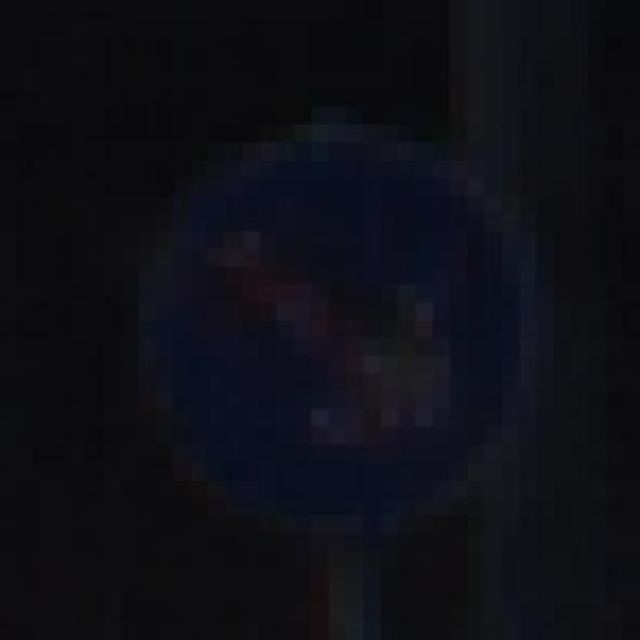Keep-Right: (121, 89, 553, 533)
